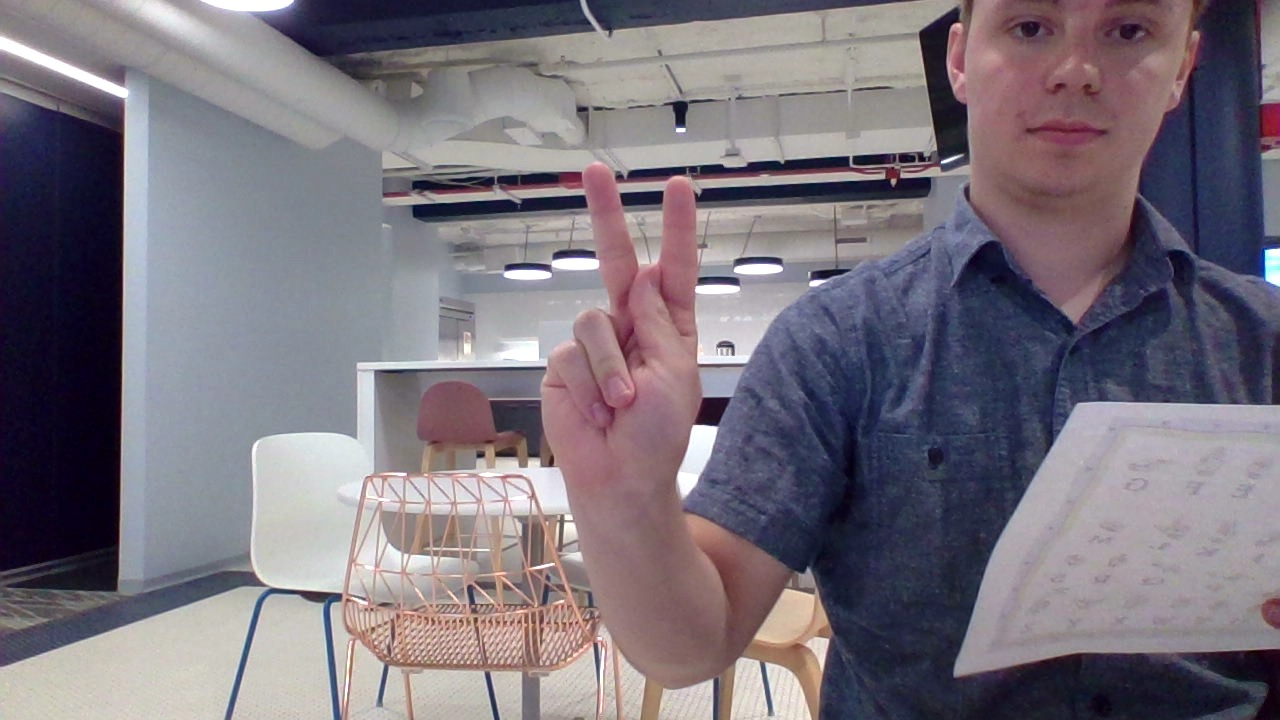k: (523, 140, 727, 518)
